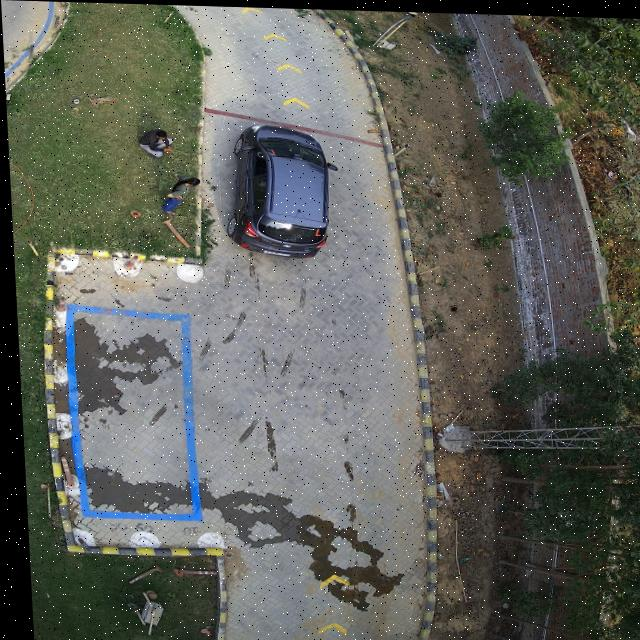car: (224, 123, 327, 257)
